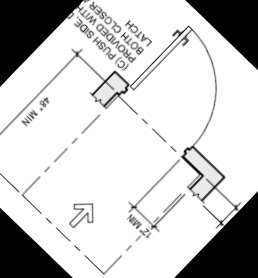door: (113, 18, 255, 160)
